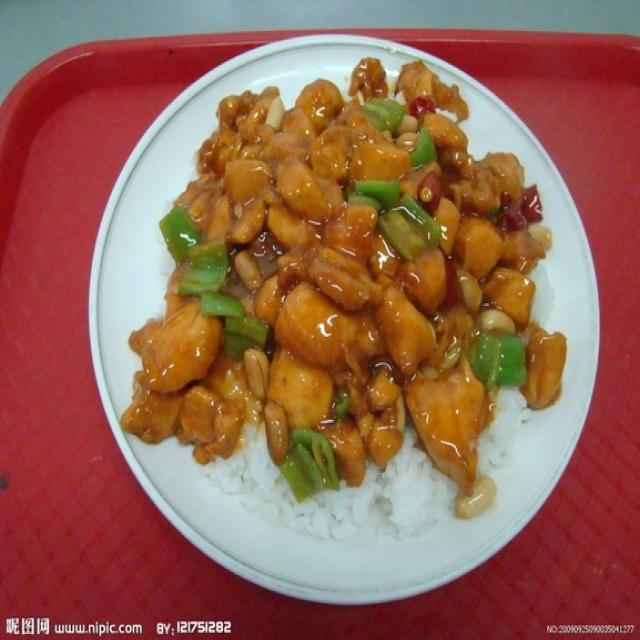鸡肉料理 含炸鸡: (98, 37, 599, 591)
